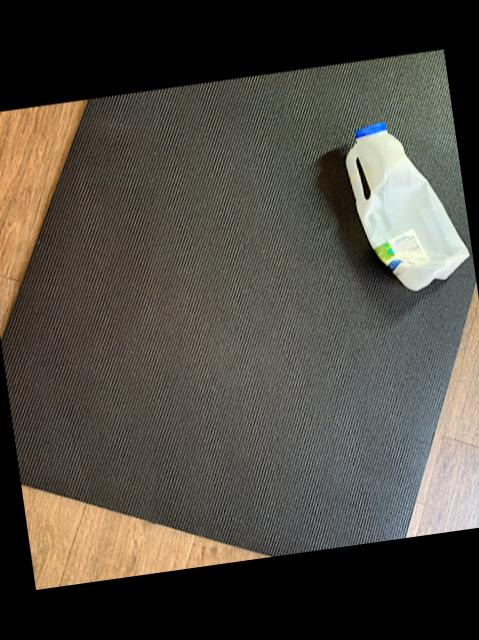plastic: (346, 124, 469, 292)
